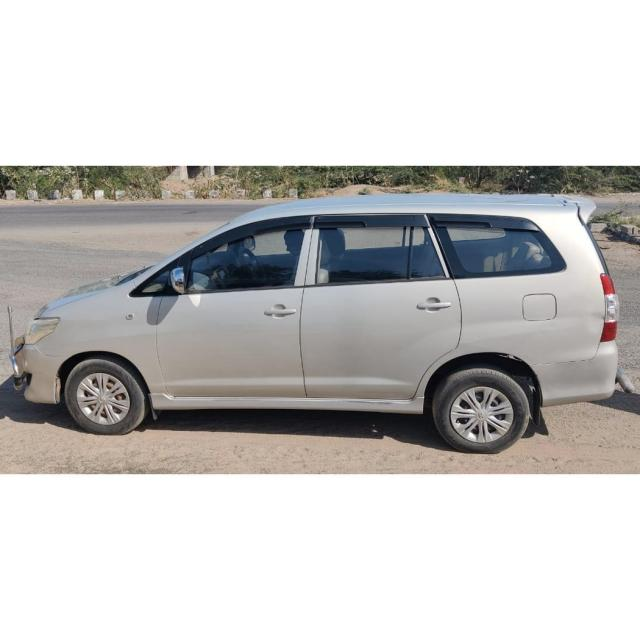light_vehicle: (7, 192, 634, 454)
